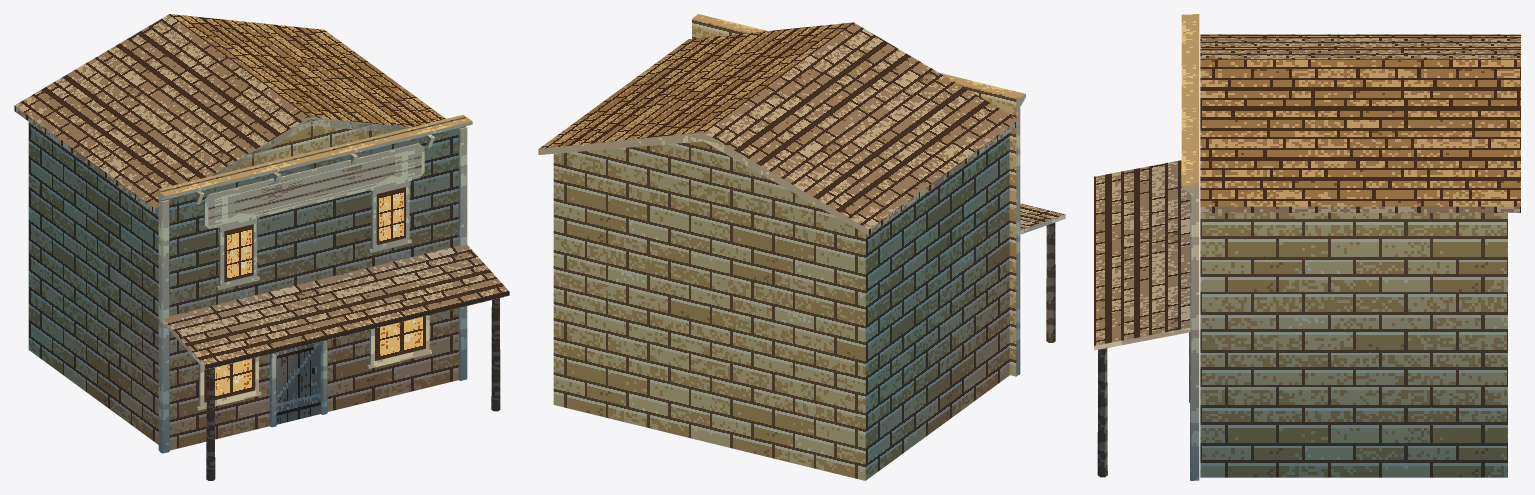
Rendered from wtown.facade__g_brick.glb.
The picture shows the model from 3 angles, left to right: view 1: azimuth 30°, elevation 25°; view 2: azimuth 150°, elevation 25°; view 3: azimuth 270°, elevation 25°; orthographic projection. The views are drawn at different scales.
Visible parts, largest first — view 1: kit_roof, kit_front, kit_body, kit_porch, kit_card_panes, kit_trim, kit_windows; view 2: kit_body, kit_roof, kit_front, kit_porch, kit_trim; view 3: kit_body, kit_roof, kit_porch, kit_trim, kit_front.
Part boxes in pixels (x1,y1,x2,y2): kit_roof: (14,14,445,214); kit_front: (158,115,465,451); kit_body: (28,119,407,444); kit_porch: (162,245,509,480); kit_card_panes: (204,147,425,424); kit_trim: (159,117,472,453); kit_windows: (196,176,431,410); kit_body: (553,132,1009,480); kit_roof: (538,22,1018,235); kit_front: (692,17,1019,376); kit_porch: (1020,203,1065,342); kit_trim: (693,14,1025,374); kit_body: (1200,213,1507,477); kit_roof: (1200,34,1520,212); kit_porch: (1094,160,1190,477); kit_trim: (1181,14,1193,480); kit_front: (1193,14,1199,480).
Size of the model in its own units: 7.94 by 7.24 by 8.32.
Materials: 7 (7 with a texture image).
